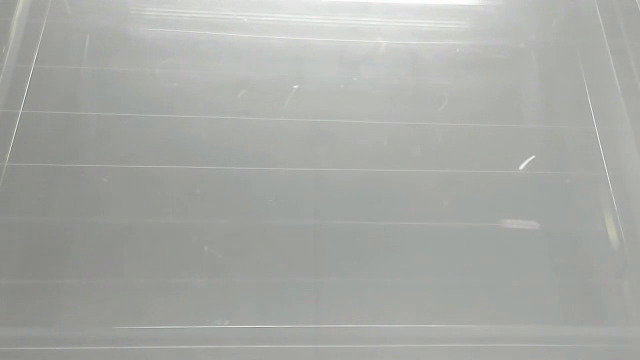alpha: (496, 211, 545, 237), (514, 150, 537, 174)
